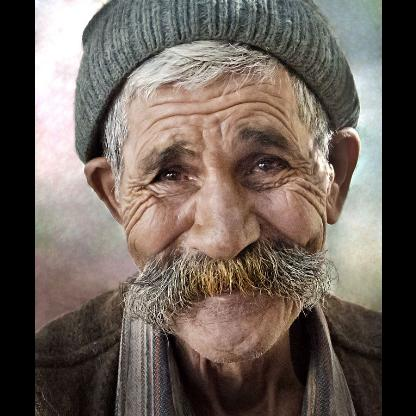Male: (82, 43, 362, 362)
